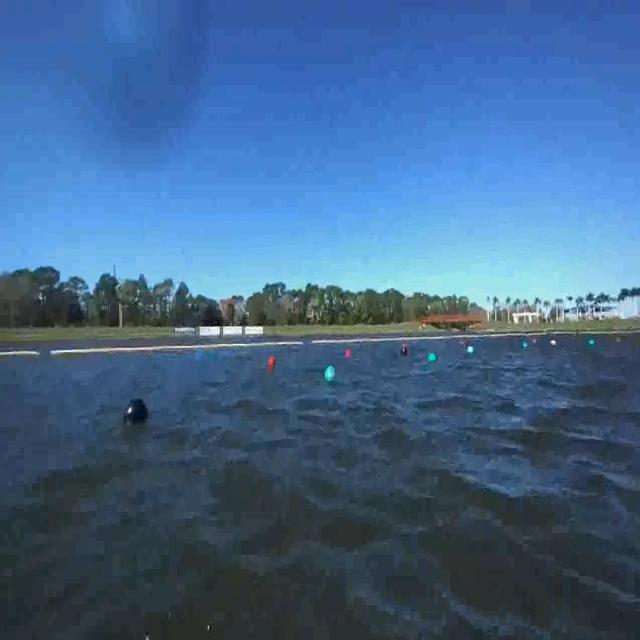black-buoy: (104, 375, 166, 442)
green-buoy: (327, 364, 338, 381), (429, 352, 437, 363)
red-buoy: (347, 349, 352, 359)
red-column-buoy: (268, 356, 277, 370)
